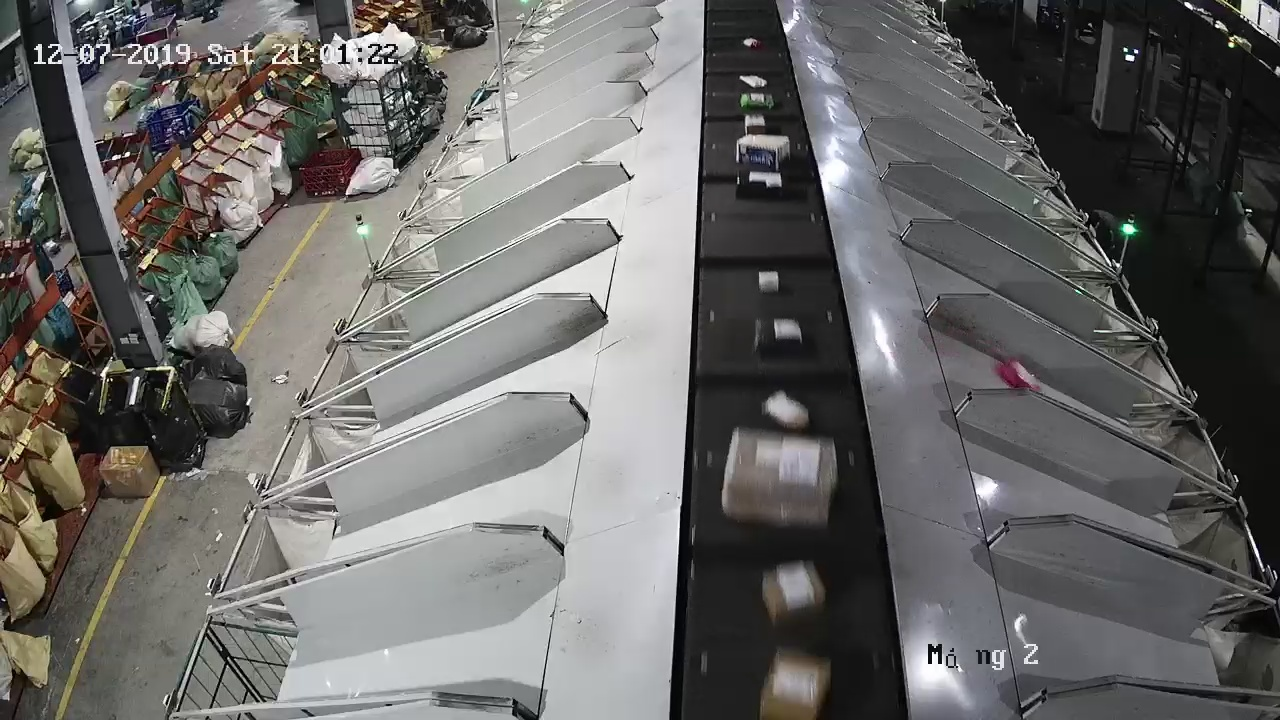parcel: (995, 357, 1041, 391)
